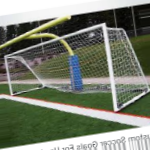goals: (4, 22, 150, 113)
